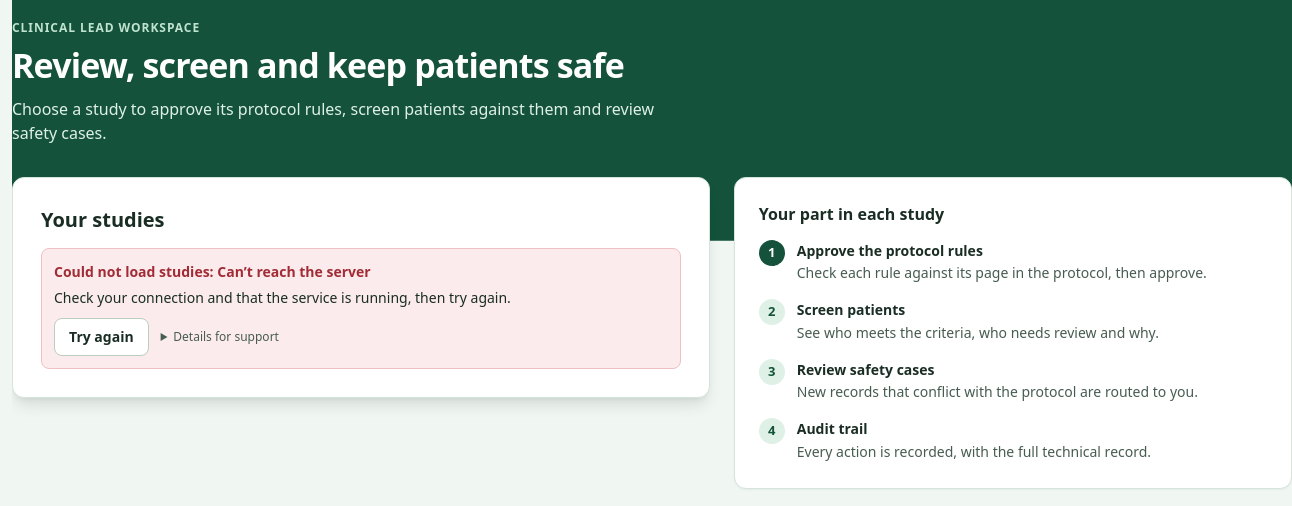
landing page and study selection › reports a study-list failure and allows retry
Expected: the message shows "Could not load studies", [54, 262, 217, 280]
Click the button "Try again" at coordinates (101, 337), box [54, 318, 149, 356]
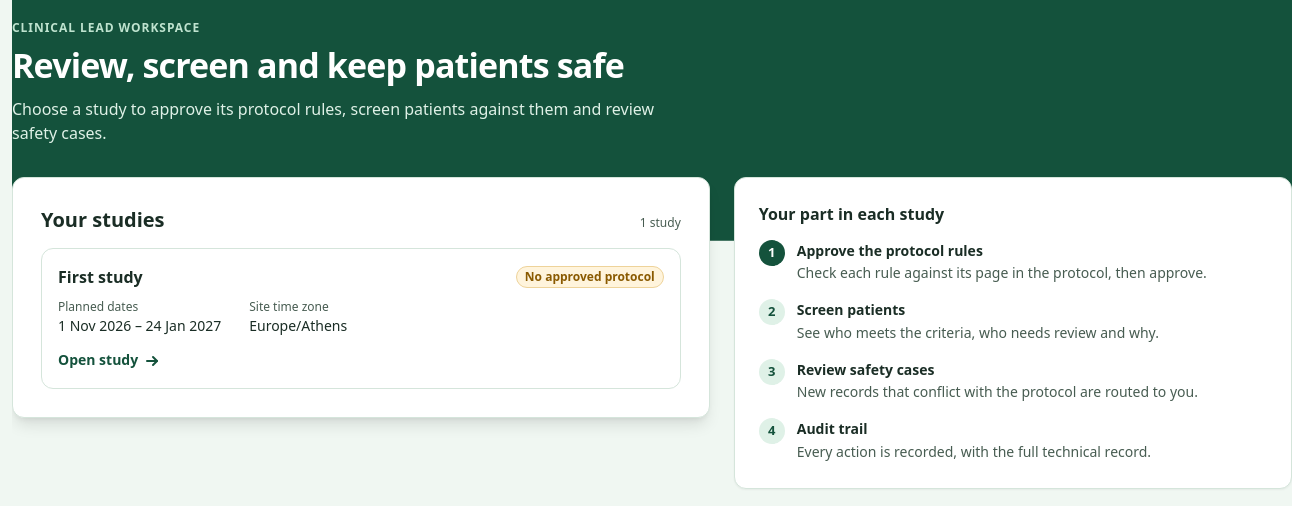
Expected: the link "First study" is shown, [41, 248, 681, 389]
